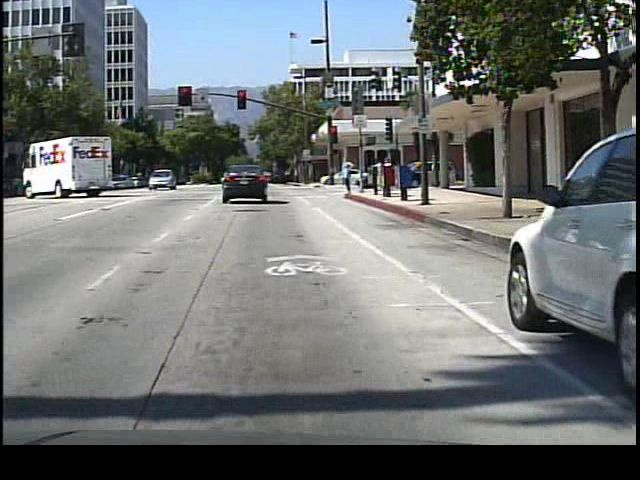person: (339, 151, 361, 199)
